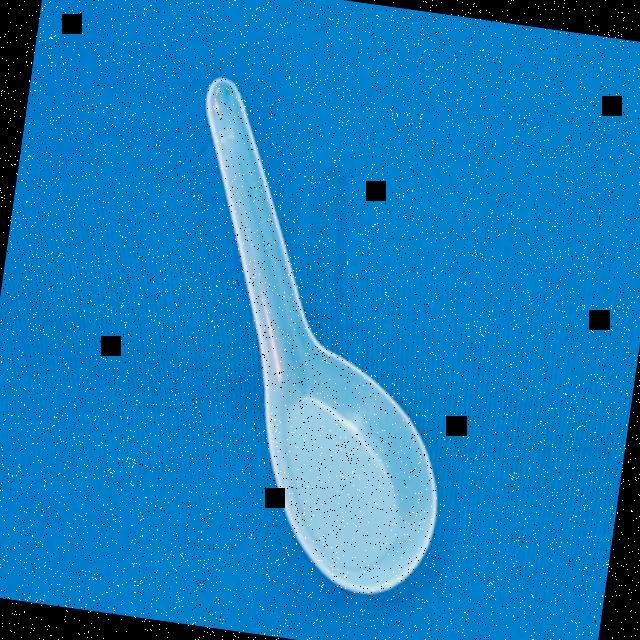plastic_box: (143, 76, 493, 606)
